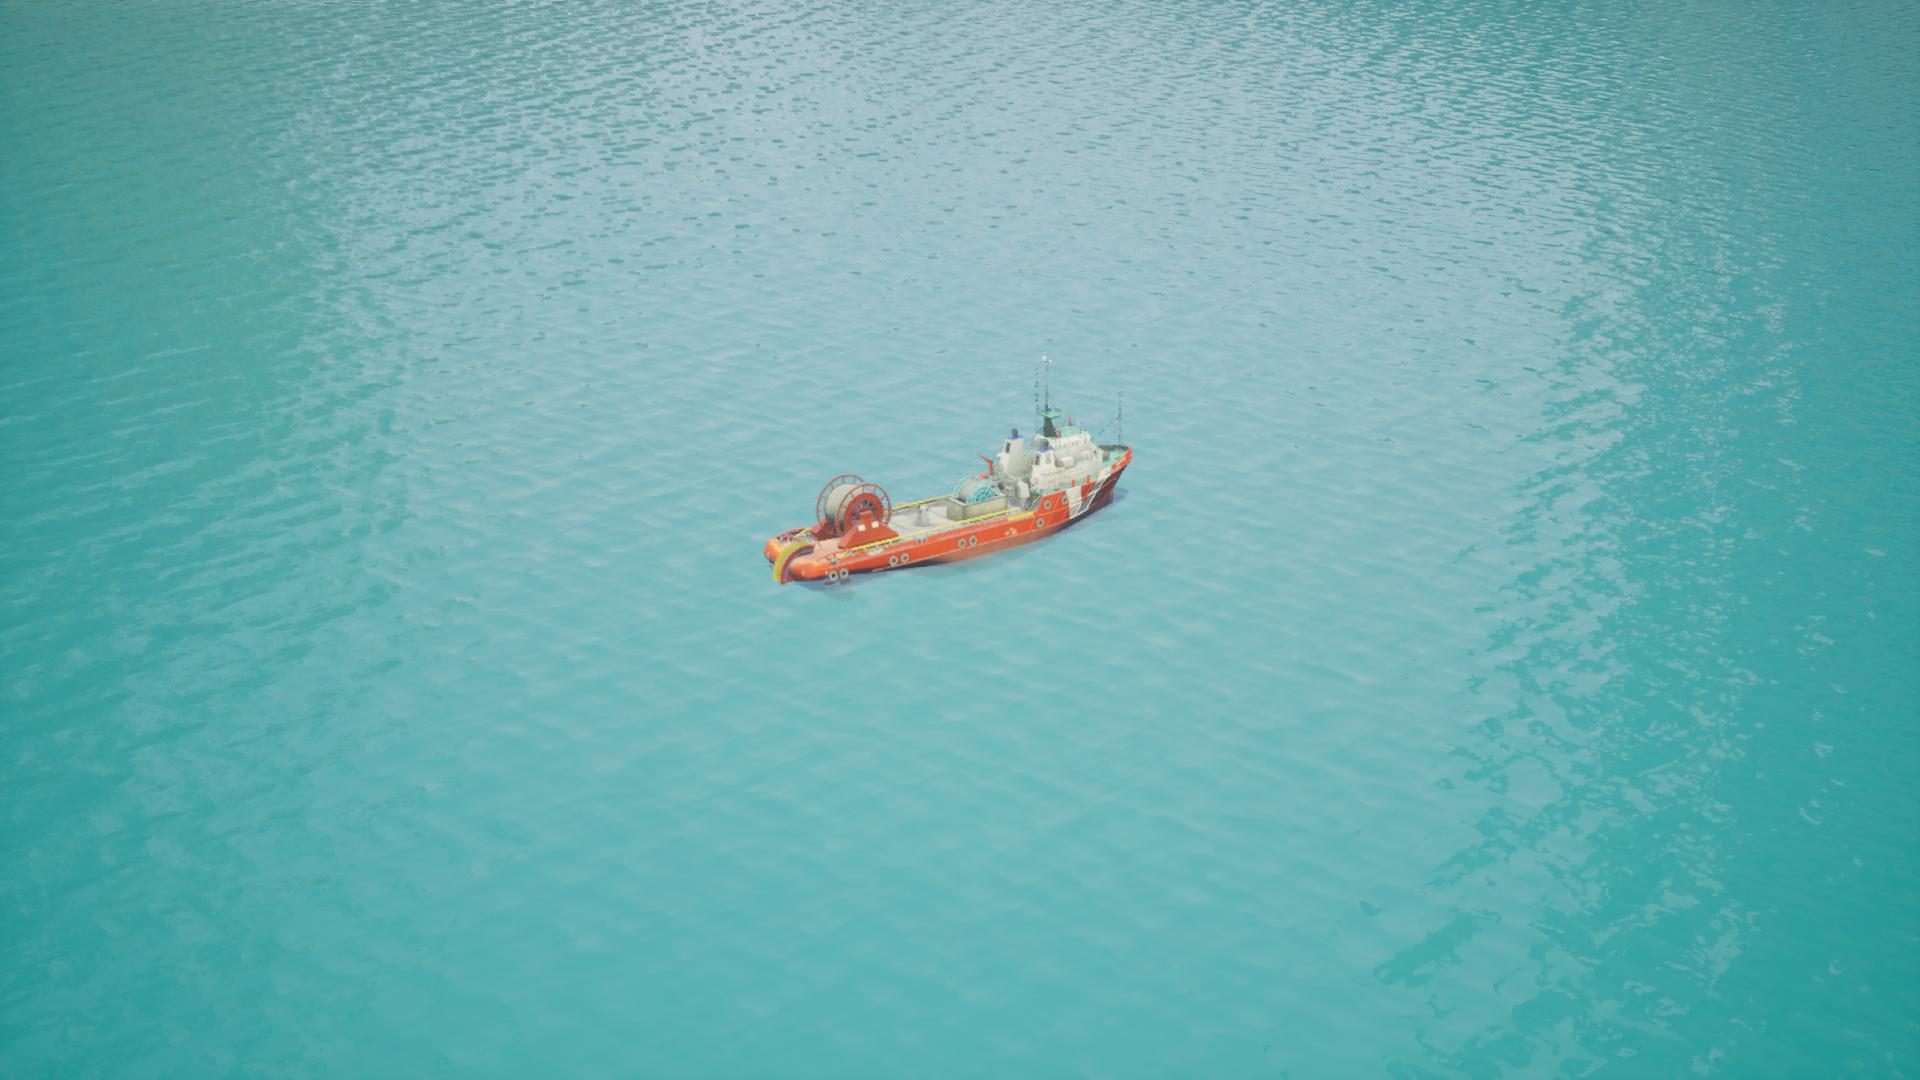Tug Boat: (765, 414, 1129, 588)
